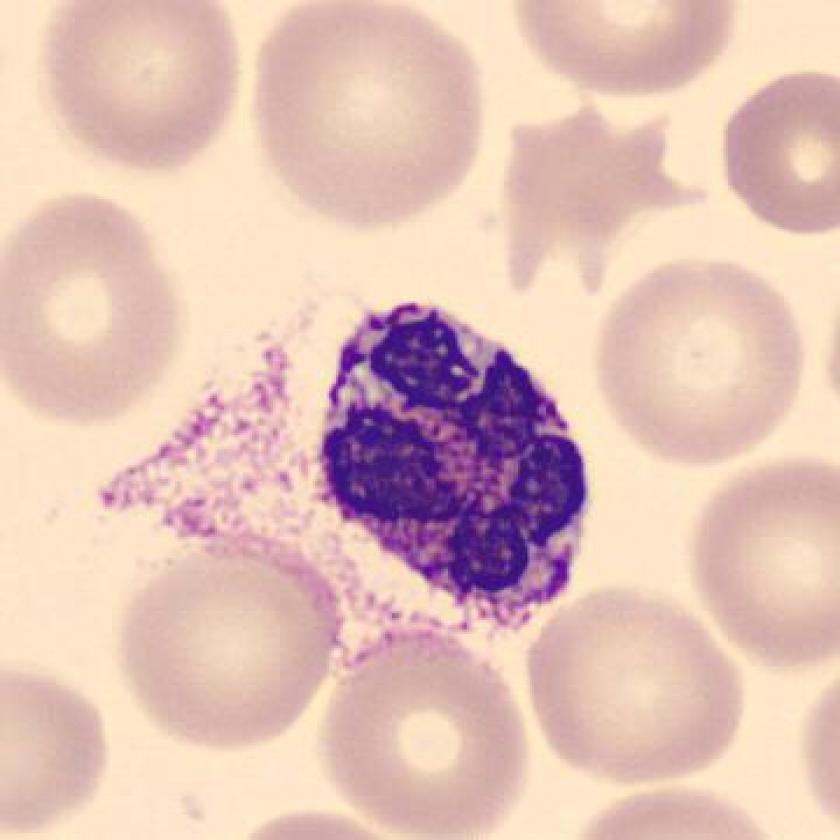basophil: (304, 292, 587, 619)
